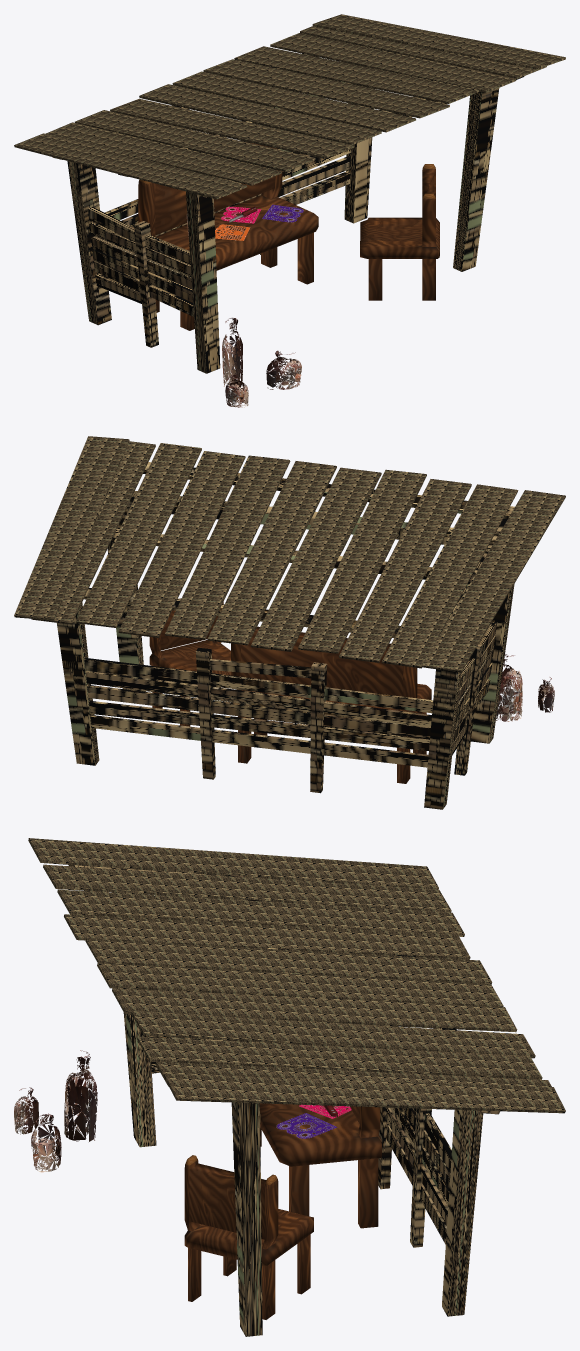
The model's file is cosas.obj.
3 views of the same model, one above another, from view 1: azimuth 30°, elevation 25°; view 2: azimuth 150°, elevation 25°; view 3: azimuth 270°, elevation 25° (orthographic). The views are drawn at different scales.
Visible parts, largest first — view 1: Shed_AO, Object_2, Object_2.015, model_tex_u1_v1_0.002, model_tex_u1_v1_0.003, model_tex_u1_v1_0.004, papel_calavera_naranja_05_papel_calavera_naranja_01_0; view 2: Shed_AO, Object_2, Object_2.015, model_tex_u1_v1_0.002; view 3: Shed_AO, Object_2.015, Object_2, model_tex_u1_v1_0.002, model_tex_u1_v1_0.003, model_tex_u1_v1_0.004, papel_calavera_naranja_05_papel_calavera_naranja_01_0.
Boxes of the visible parts, x1,y1,x2,y2 form: Shed_AO: (14, 14, 565, 373); Object_2: (138, 141, 318, 330); Object_2.015: (360, 164, 439, 300); model_tex_u1_v1_0.002: (222, 317, 242, 389); model_tex_u1_v1_0.003: (266, 350, 301, 389); model_tex_u1_v1_0.004: (225, 374, 248, 407); papel_calavera_naranja_05_papel_calavera_naranja_01_0: (262, 204, 303, 222); Shed_AO: (14, 436, 565, 809); Object_2: (231, 626, 431, 783); Object_2.015: (149, 598, 230, 726); model_tex_u1_v1_0.002: (496, 654, 522, 721); Shed_AO: (28, 838, 565, 1336); Object_2.015: (184, 1155, 313, 1319); Object_2: (260, 1103, 381, 1228); model_tex_u1_v1_0.002: (64, 1050, 97, 1141); model_tex_u1_v1_0.003: (31, 1113, 61, 1172); model_tex_u1_v1_0.004: (14, 1087, 38, 1134); papel_calavera_naranja_05_papel_calavera_naranja_01_0: (276, 1113, 336, 1138).
Size of the model in its own units: 43.49 by 19.79 by 34.66.
Materials: 7 (7 with a texture image).
